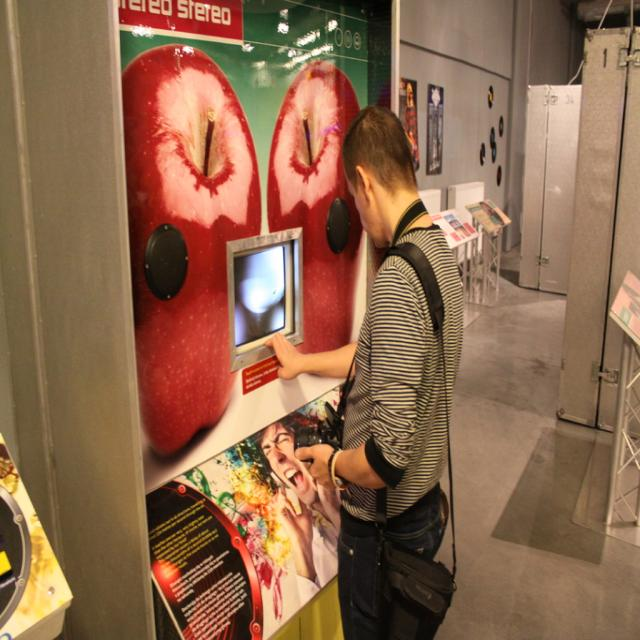Healty Apple: (130, 70, 254, 466), (266, 59, 363, 354)
